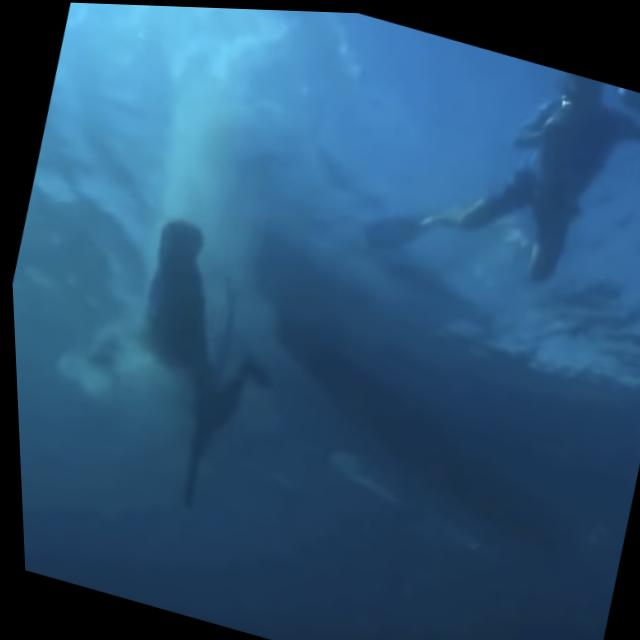human: (26, 181, 317, 534), (373, 27, 640, 318)
